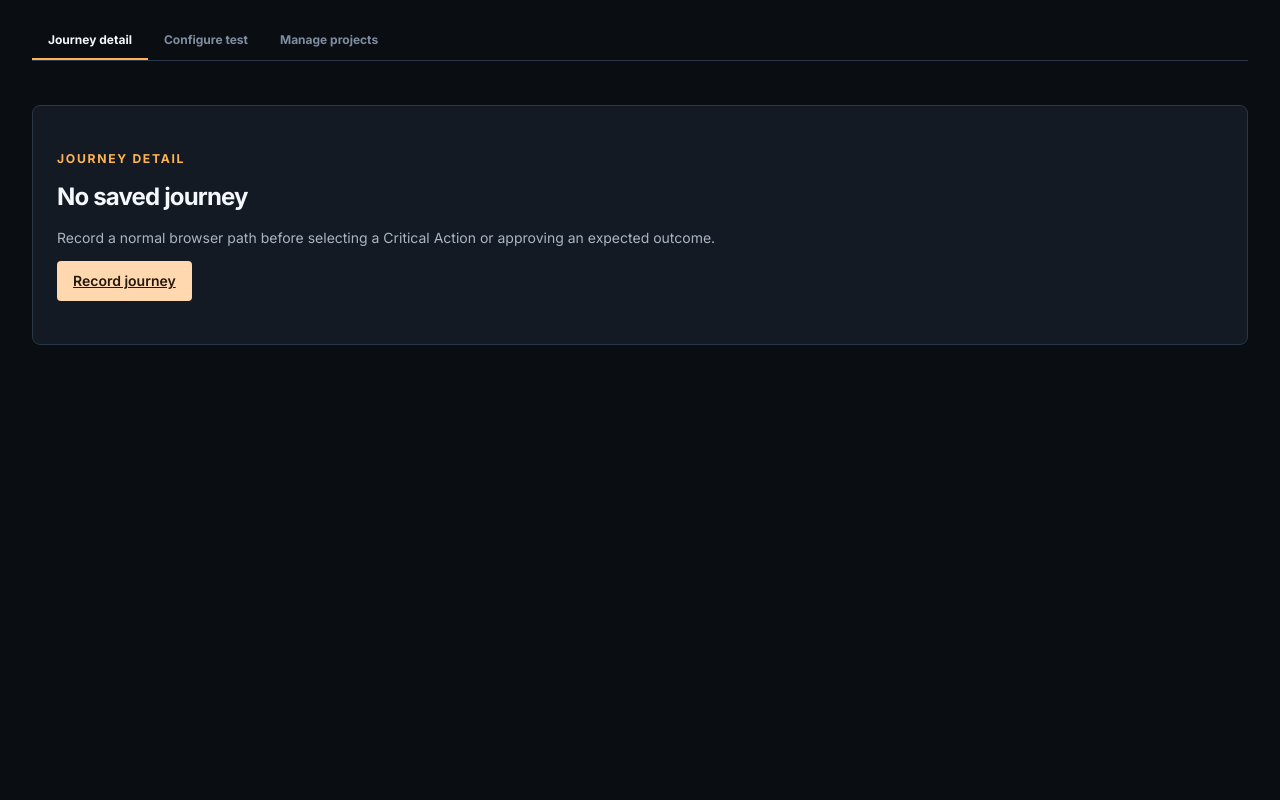
Test: external project journey workflow › shows the controlled-environment warning and explicit unsupported list
Click the button "Manage projects".
click(329, 40)  # box top-left (264, 20), bottom-right (394, 60)
(page scrolled)
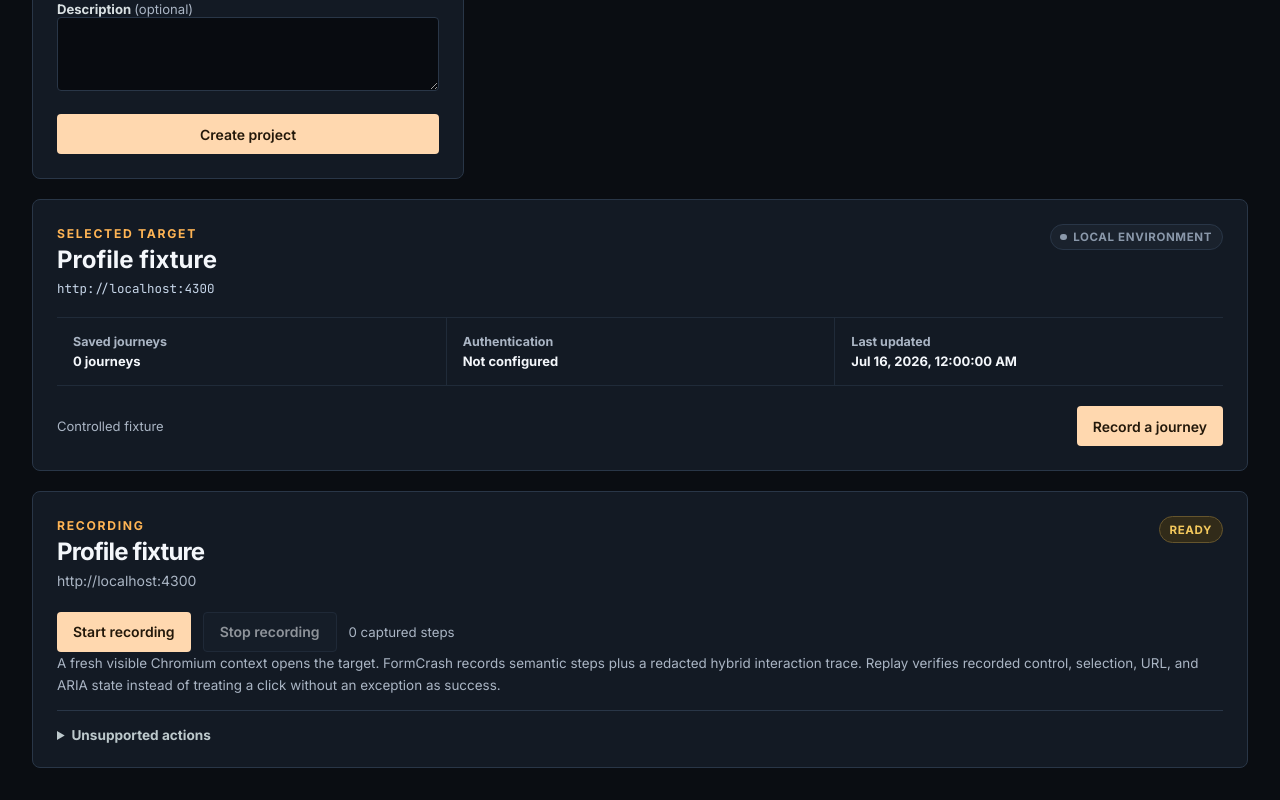
Expected: the heading "Unsupported actions" is shown, top-left (71, 726), bottom-right (211, 742)
